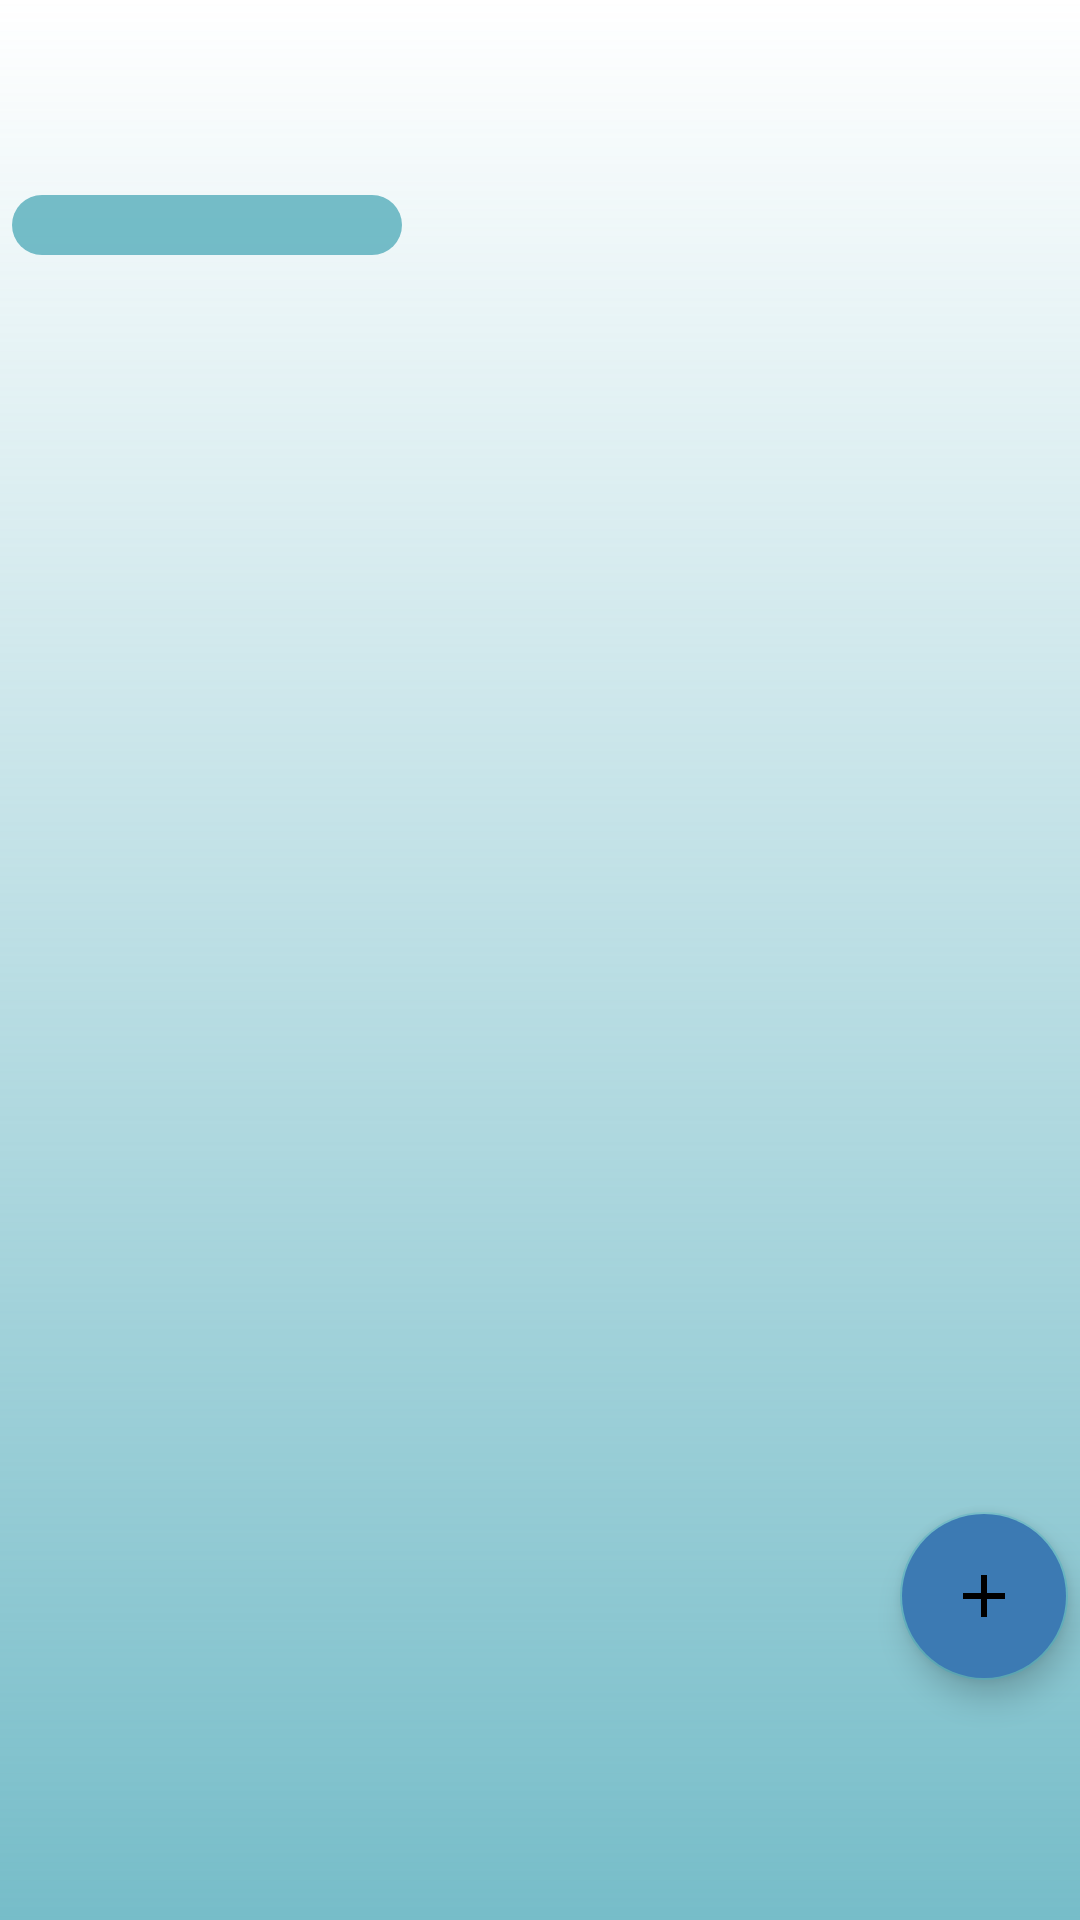

Where icons sit on this 1080×1920 app screen, as (x1, y1, x2, y2):
add: (900, 1513, 1068, 1680)
